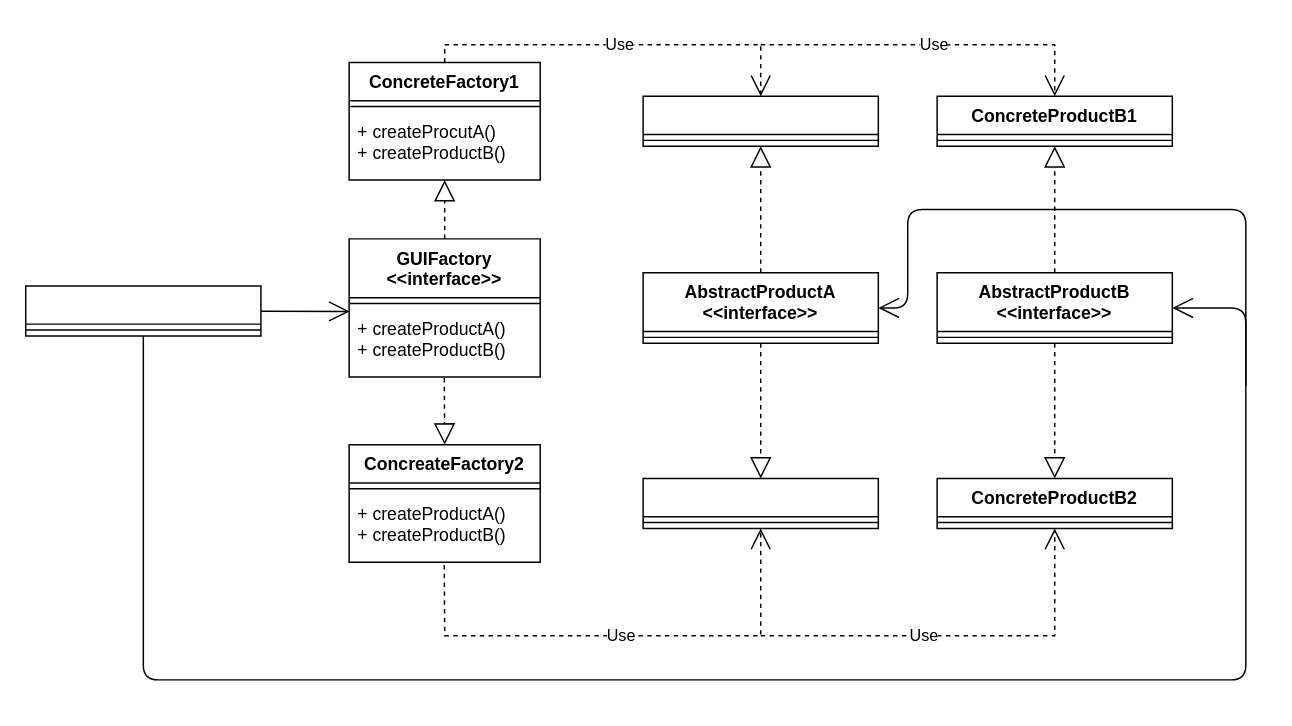
Image size: 1292x726. Some labels were removed from this diagram. The centre of each missing label's shape, as x and y in pixels:
"Client" goes at (x=142, y=310).
"ConcreteProductA1" goes at (x=760, y=120).
"ConcreteProductA2" goes at (x=760, y=502).
